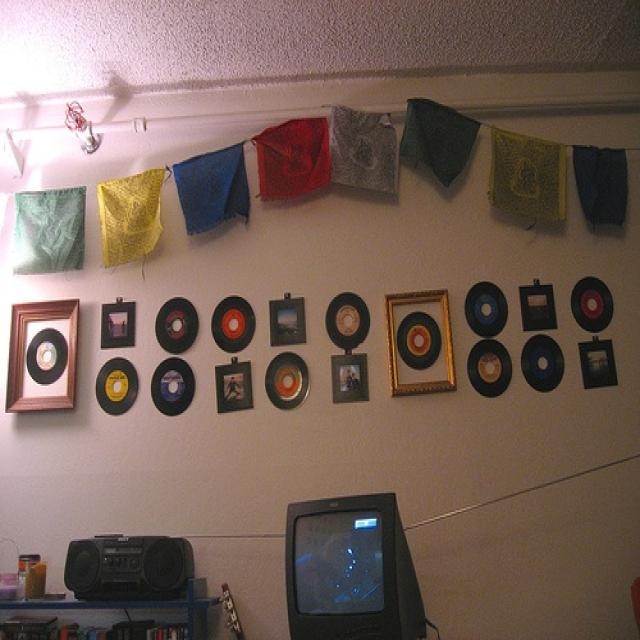tvmonitor: (287, 491, 428, 639)
